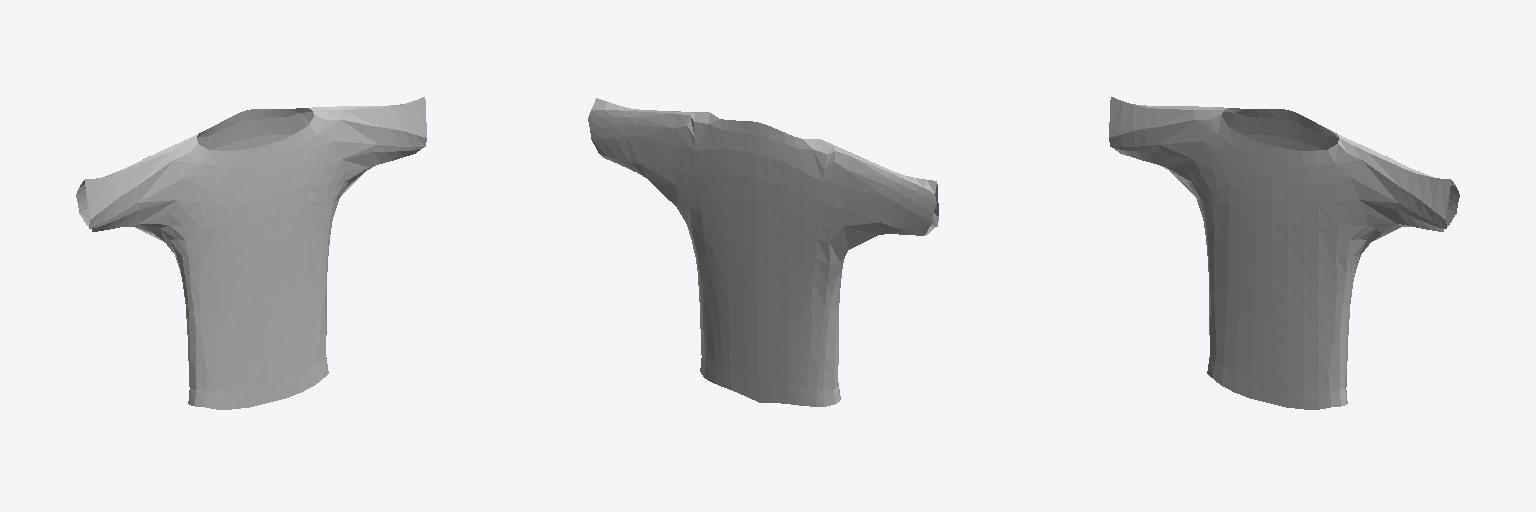
The model's file is tshirt_3.obj.
3 views of the same model, side by side, from view 1: azimuth 30°, elevation 25°; view 2: azimuth 150°, elevation 25°; view 3: azimuth 330°, elevation 25° (orthographic).
Visible parts, largest first — view 1: tshirt_base_Plane.005_tshirt_base_Plane.011; view 2: tshirt_base_Plane.005_tshirt_base_Plane.011; view 3: tshirt_base_Plane.005_tshirt_base_Plane.011.
Boxes of the visible parts, box(x1,y1,x2,y2) form: tshirt_base_Plane.005_tshirt_base_Plane.011: box(76, 97, 426, 409); tshirt_base_Plane.005_tshirt_base_Plane.011: box(588, 98, 938, 406); tshirt_base_Plane.005_tshirt_base_Plane.011: box(1109, 97, 1459, 409).
Size of the model in its own units: 1.57 by 1.2 by 0.1761.